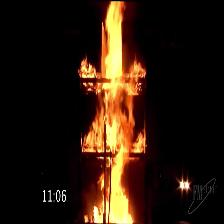fire: (95, 3, 130, 219)
